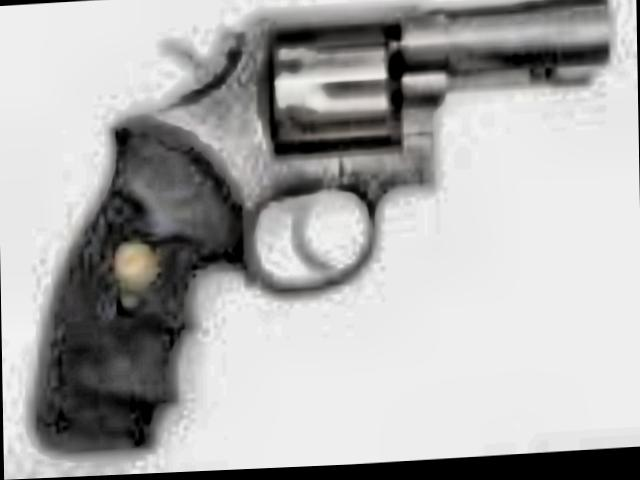pistol: (7, 0, 619, 449)
